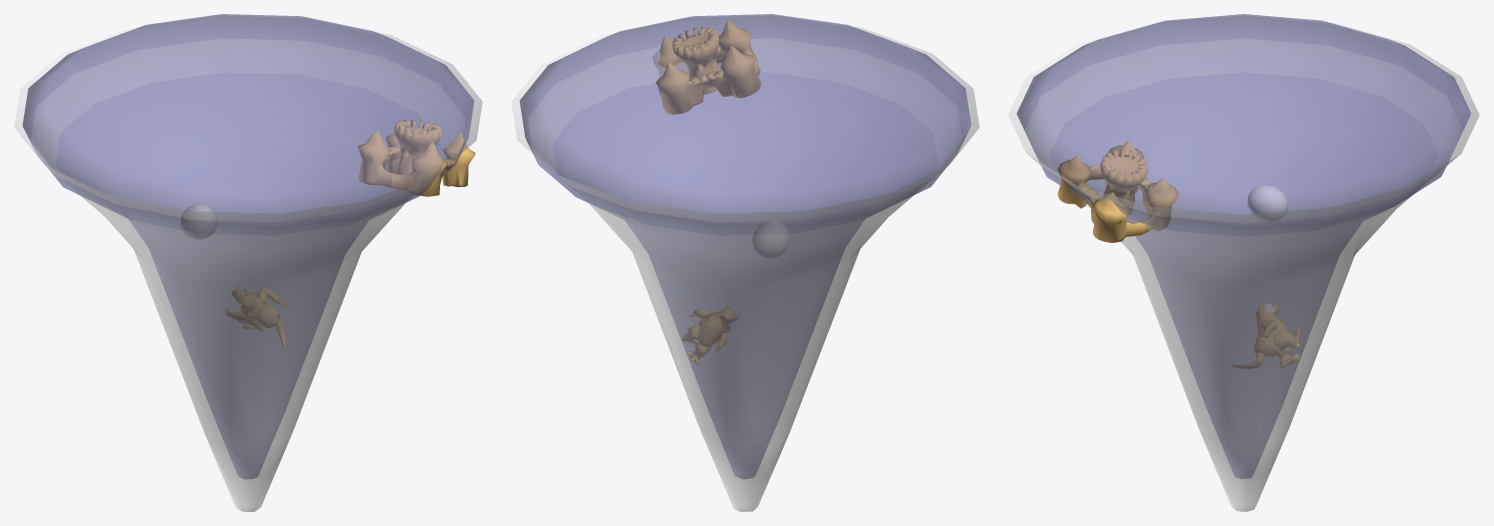
File: tornado.fbx
3 renders of one model, left to right at view 1: azimuth 30°, elevation 25°; view 2: azimuth 150°, elevation 25°; view 3: azimuth 270°, elevation 25°, orthographic.
Parts seen in each view (by area): view 1: tornado; view 2: tornado; view 3: tornado.
Part boxes in pixels (box(x1,y1,x2,y2)): tornado: box(14, 14, 482, 511); tornado: box(511, 14, 979, 511); tornado: box(1008, 14, 1479, 511).
Bounding box in the file's own units: 753 × 753 × 716.
